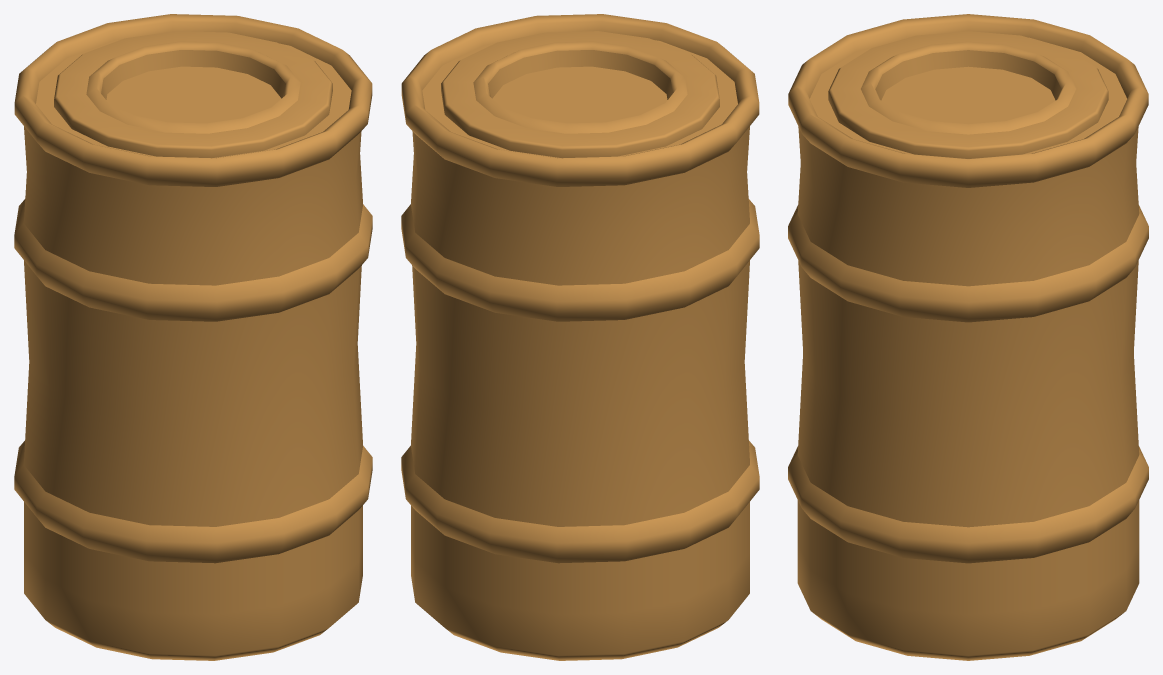
Rendered from orange barrel.fbx.
3 views of the same model, side by side, from view 1: azimuth 30°, elevation 25°; view 2: azimuth 150°, elevation 25°; view 3: azimuth 270°, elevation 25° (orthographic).
Parts seen in each view (by area): view 1: pCylinder3; view 2: pCylinder3; view 3: pCylinder3.
Boxes of the visible parts, <box> form: pCylinder3: <box>14,14,372,660</box>; pCylinder3: <box>401,14,759,660</box>; pCylinder3: <box>788,14,1148,660</box>.
Size of the model in its own units: 45.05 by 70.34 by 45.05.
